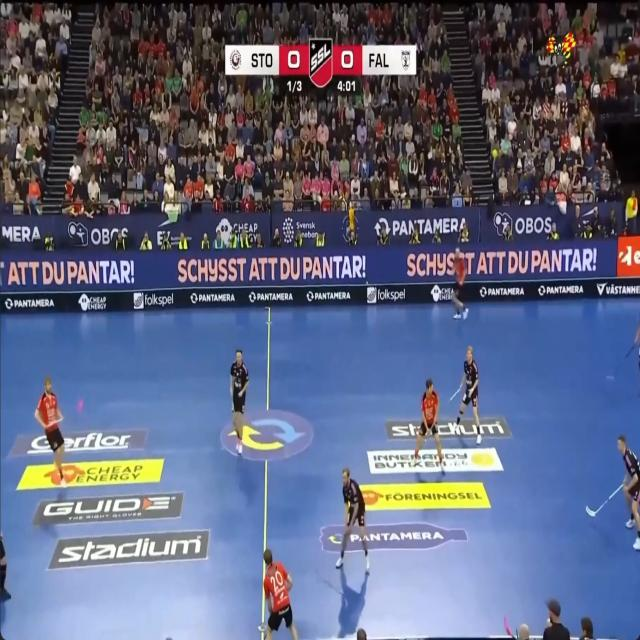player: (336, 466, 370, 572), (34, 377, 66, 487), (263, 548, 297, 639), (414, 379, 444, 472), (618, 436, 640, 550), (456, 347, 481, 444), (230, 350, 248, 455), (452, 247, 467, 319), (0, 535, 11, 602), (410, 425, 412, 428)
stick: (585, 485, 623, 517), (607, 342, 636, 379), (504, 615, 517, 639), (449, 387, 460, 401), (49, 416, 64, 426)
